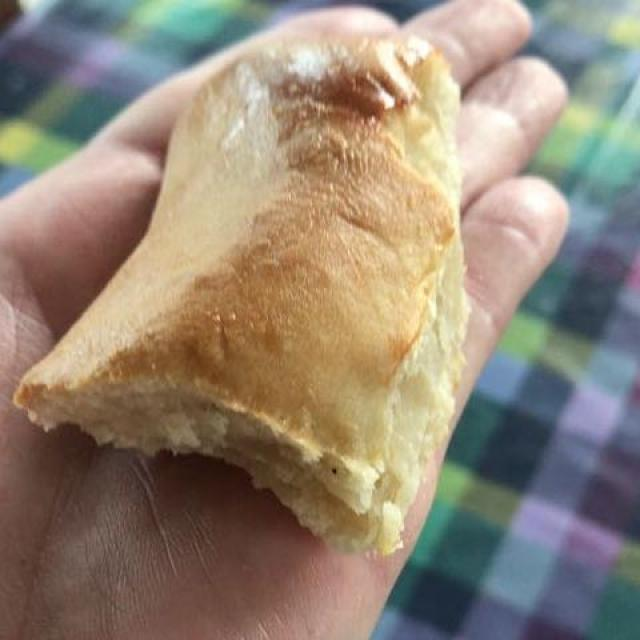bread: (10, 34, 495, 563)
